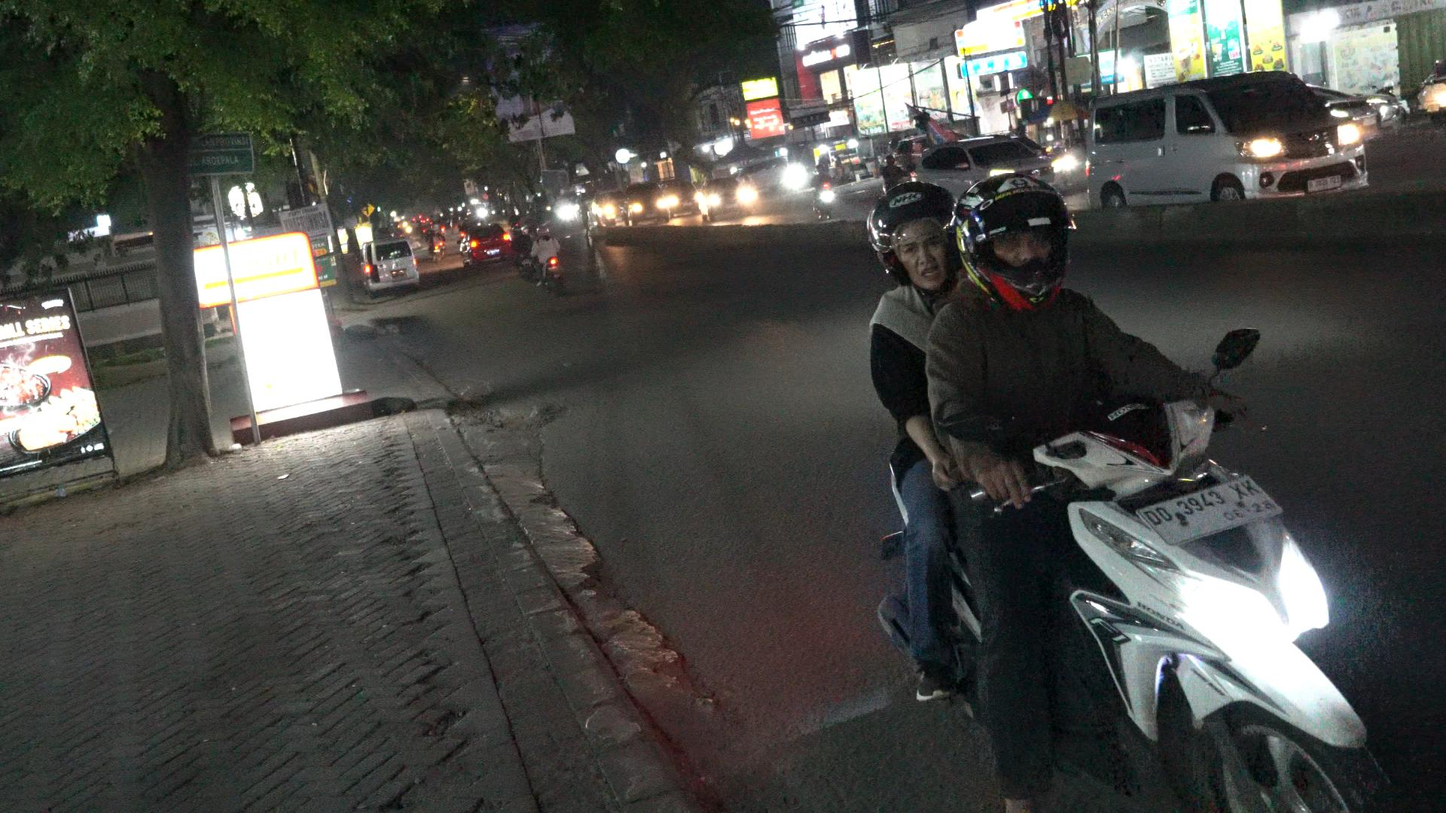number-plate: (1137, 468, 1285, 542)
